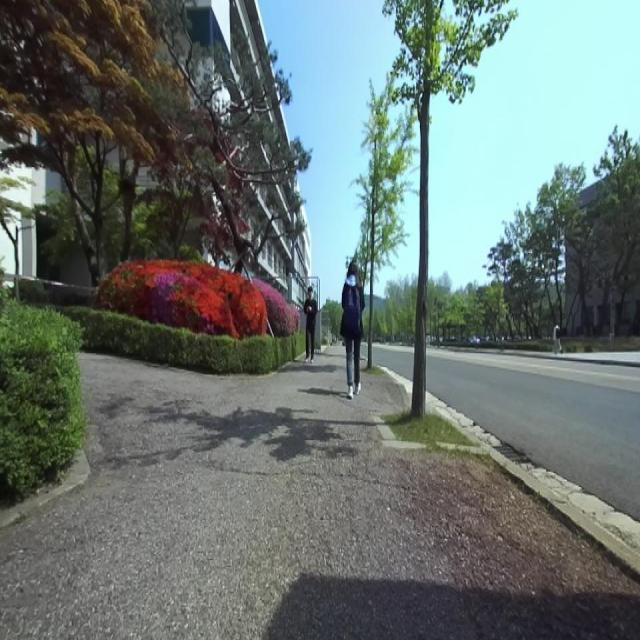sidewalk: (0, 346, 640, 638)
